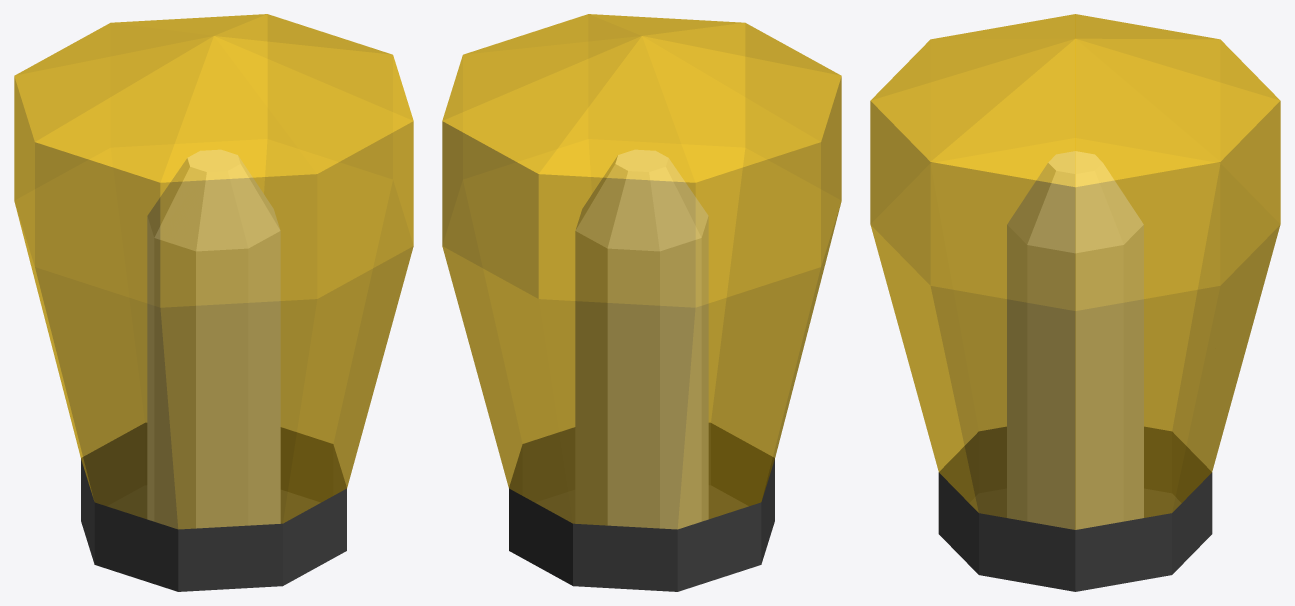
File: LightbulbAmber.fbx
3 renders of one model, left to right at view 1: azimuth 30°, elevation 25°; view 2: azimuth 150°, elevation 25°; view 3: azimuth 270°, elevation 25°, orthographic.
Visible parts, largest first — view 1: LightbulbAmber; view 2: LightbulbAmber; view 3: LightbulbAmber.
Part boxes in pixels (left/top/right/bottom): LightbulbAmber: left=14, top=14, right=413, bottom=591; LightbulbAmber: left=442, top=14, right=841, bottom=591; LightbulbAmber: left=870, top=14, right=1280, bottom=591.
Size of the model in its own units: 60 by 80 by 60.
